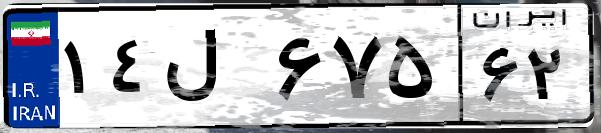1: (57, 26, 110, 100)
2: (525, 38, 570, 115)
4: (110, 28, 158, 98)
5: (385, 28, 445, 110)
6: (270, 28, 330, 110), (475, 38, 525, 113)
7: (330, 28, 385, 110)
ل: (158, 20, 270, 120)
